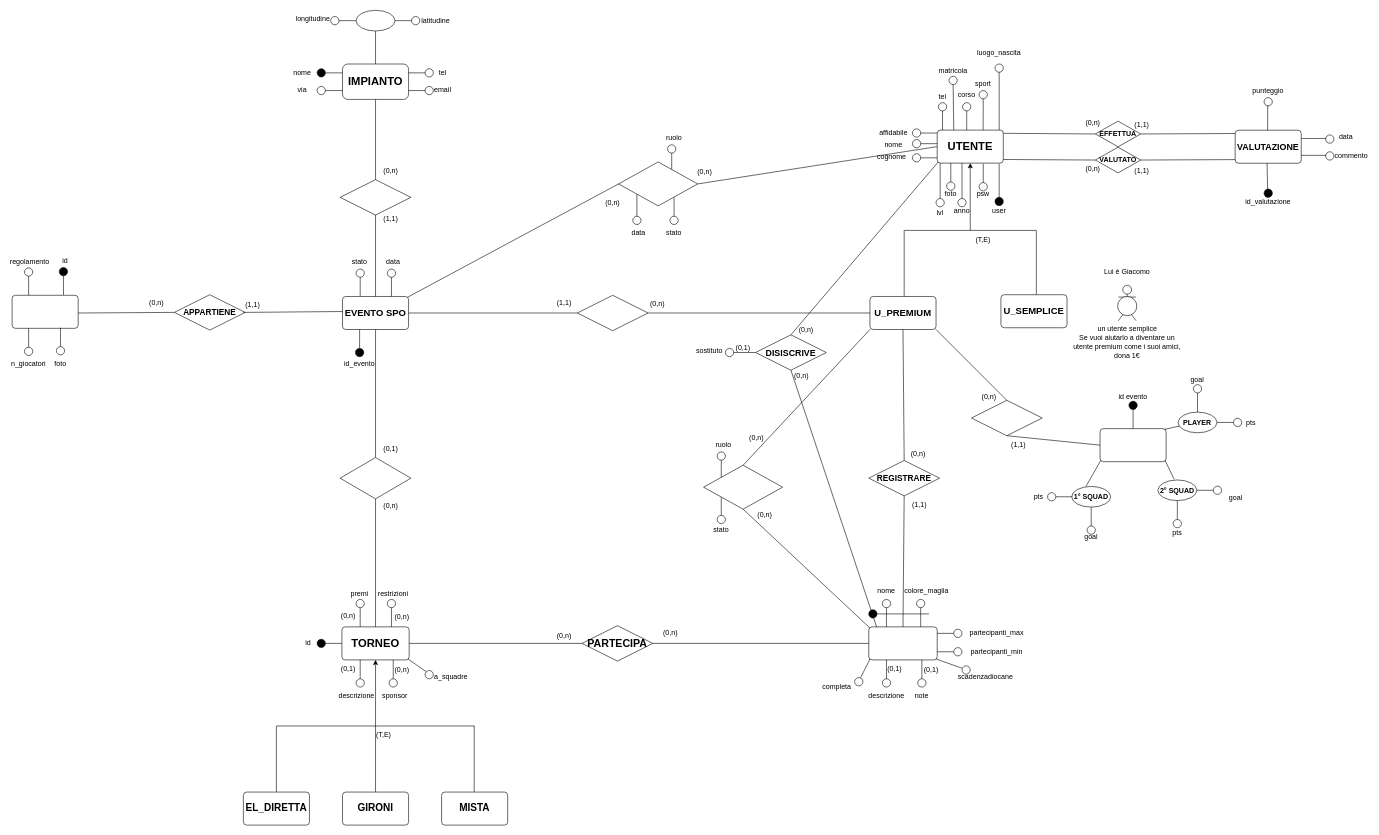
Image size: 1379x835. Some labels were removed from this diagram. Each missing label, with the centre of its shape:
CATEGORIA: the point at 45,311
coordinate: the point at 375,20
ESITO: the point at 1132,445
FORMA: the point at 375,478
IMMETTE: the point at 1006,418
ORGANIZZA: the point at 612,313
SI CANDIDA: the point at 743,487
SI ISCRIVE: the point at 658,183
SI SVOLGE: the point at 375,197
SQUADRA: the point at 902,643
